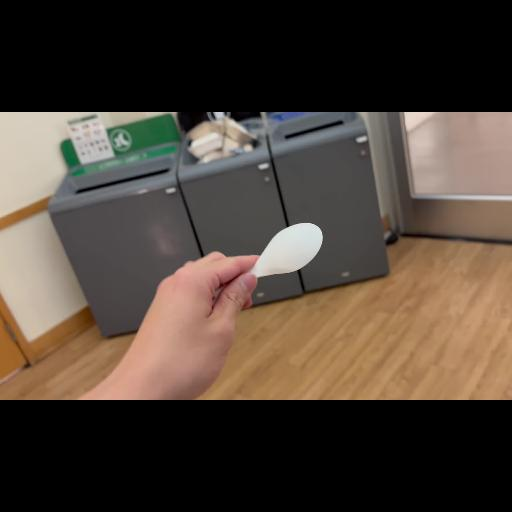utensil: (190, 219, 342, 295)
